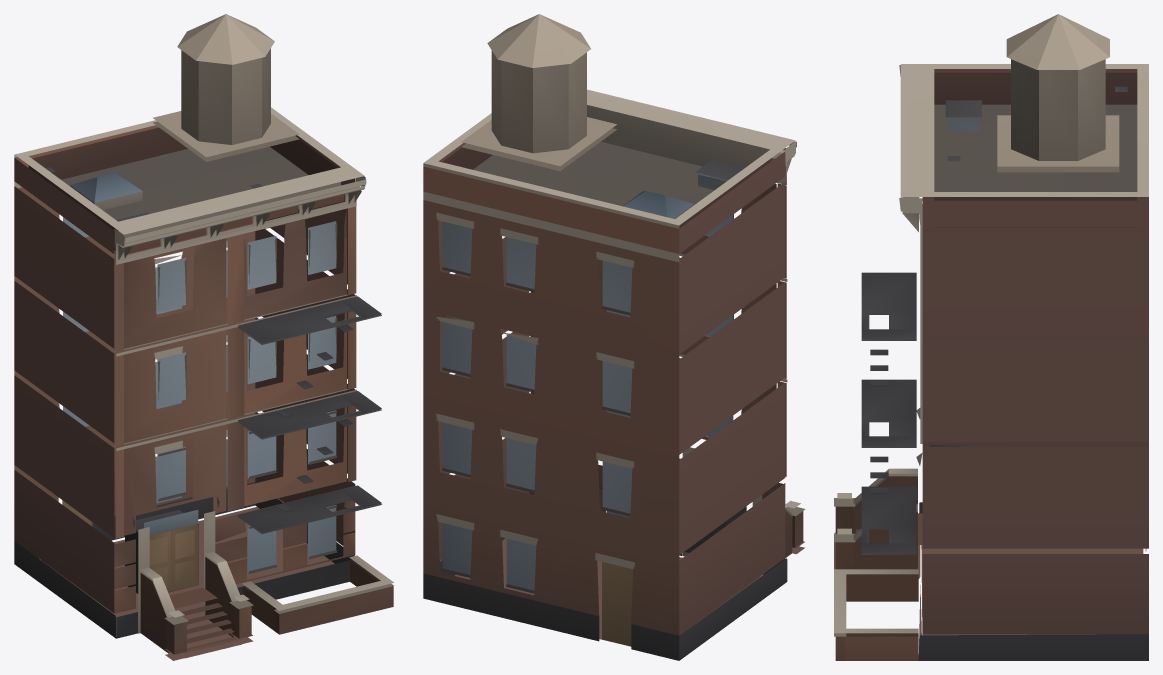
Rendered from brownstone.lod.glb.
3 views of the same model, side by side, from view 1: azimuth 30°, elevation 25°; view 2: azimuth 150°, elevation 25°; view 3: azimuth 270°, elevation 25° (orthographic). The views are drawn at different scales.
Visible parts, largest first — view 1: brownstone; view 2: brownstone; view 3: brownstone.
Boxes of the visible parts, x1=… form: brownstone: x1=14, y1=14, x2=393, y2=660; brownstone: x1=423, y1=14, x2=805, y2=660; brownstone: x1=834, y1=14, x2=1148, y2=660.
Bounding box in the file's own units: 8 × 17.06 × 8.
